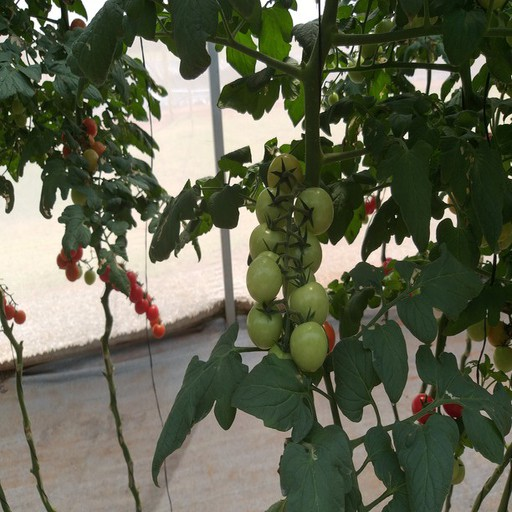green tomato bunch: (248, 154, 332, 372)
mixed tomato bunch: (411, 392, 485, 488), (64, 120, 104, 204), (57, 243, 95, 283)
red tomato bunch: (101, 258, 167, 341)
